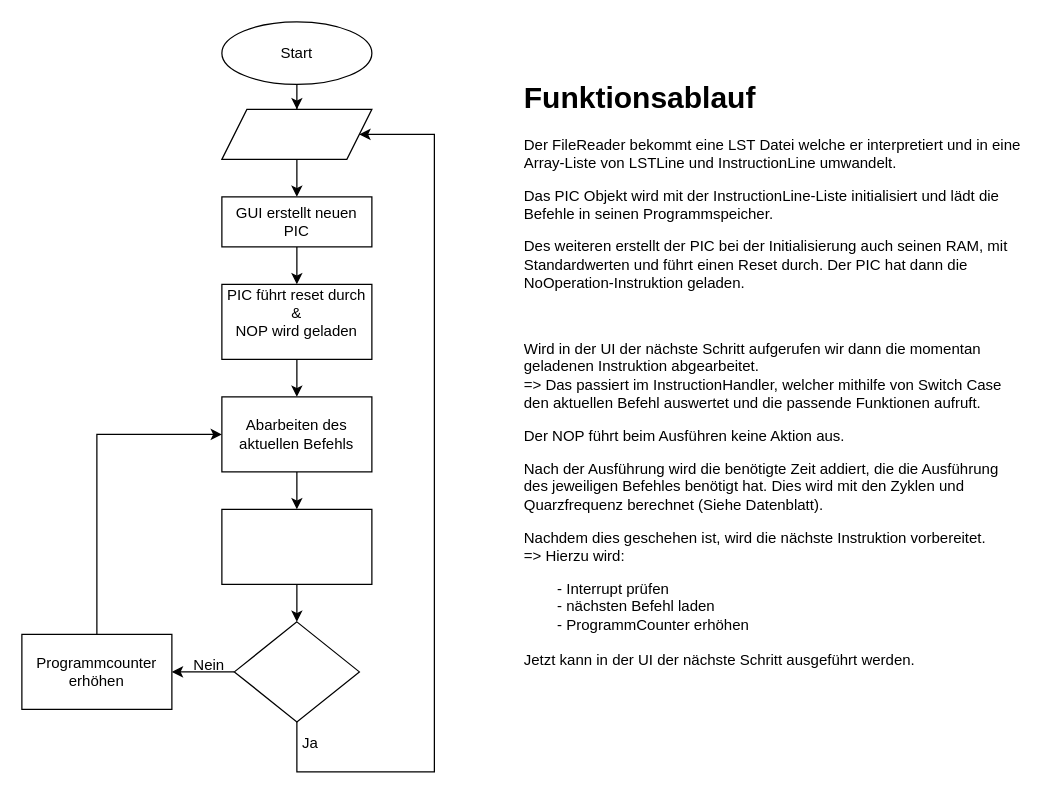
This 1044x804 diagram has some shape labels left out. Each missing label, with the centre of its shape:
"Befehl == null" belongs at (x=296, y=671).
"Laden / decodieren des nächsten Befehls" belongs at (x=296, y=546).
"LST Eingabe" belongs at (x=296, y=133).
